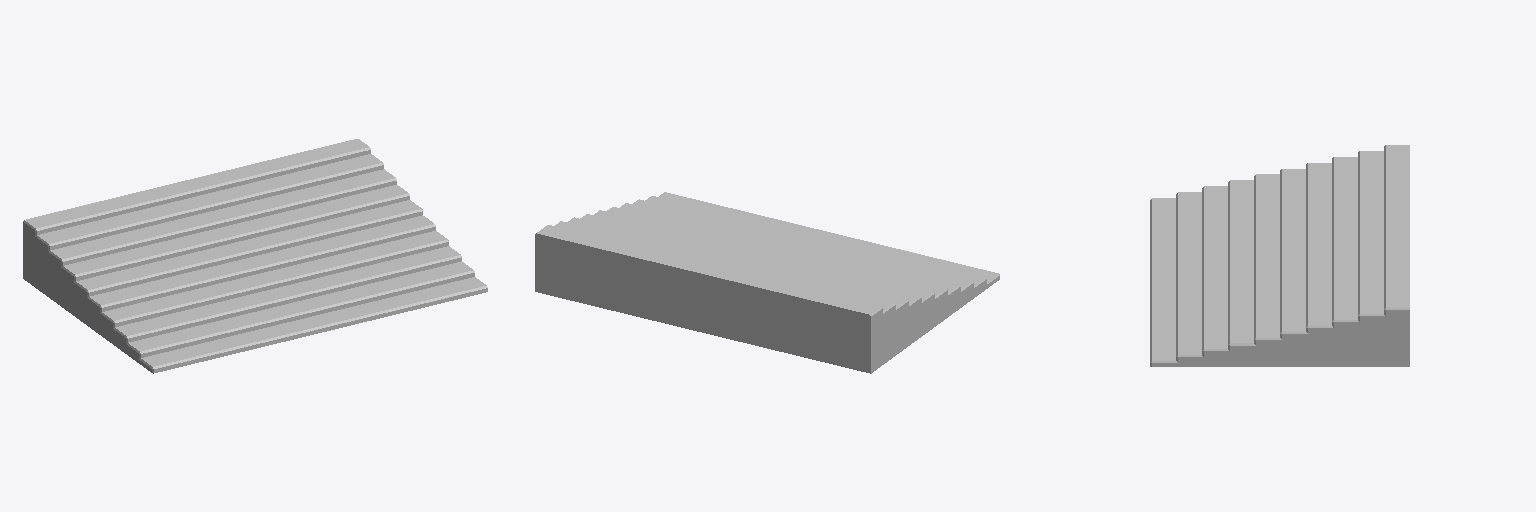
The model's file is Stairs.obj.
3 renders of one model, left to right at view 1: azimuth 30°, elevation 25°; view 2: azimuth 150°, elevation 25°; view 3: azimuth 270°, elevation 25°, orthographic.
Visible parts, largest first — view 1: pCube1; view 2: pCube1; view 3: pCube1.
Boxes of the visible parts, x1,y1,x2,y2 form: pCube1: [23, 139, 487, 373]; pCube1: [535, 192, 999, 373]; pCube1: [1150, 145, 1409, 366].
Size of the model in its own units: 12.01 by 2.01 by 8.04.